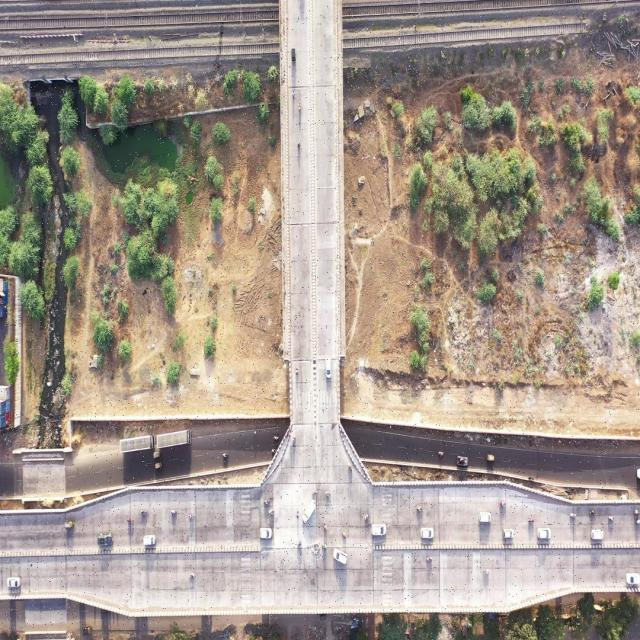3W: (63, 518, 75, 530), (318, 614, 327, 626), (486, 452, 495, 464), (290, 46, 296, 62), (83, 626, 92, 636), (154, 462, 164, 471), (153, 452, 162, 458)
Cars: (302, 499, 317, 524), (332, 548, 348, 566), (323, 356, 335, 379), (372, 522, 388, 536), (6, 576, 21, 590), (626, 572, 640, 586), (97, 534, 113, 546), (536, 527, 552, 539), (421, 526, 433, 541), (260, 526, 272, 540), (590, 529, 603, 541), (143, 535, 156, 546), (480, 513, 492, 524), (503, 528, 514, 539)
LCV: (455, 456, 471, 468)
M2W: (297, 537, 303, 550), (322, 541, 329, 552), (188, 572, 196, 581), (341, 528, 347, 540), (323, 518, 328, 532), (482, 567, 492, 574), (222, 451, 230, 459), (127, 518, 136, 525), (140, 509, 149, 516), (263, 497, 270, 506), (324, 489, 331, 498), (364, 513, 371, 522), (347, 463, 353, 473), (298, 99, 302, 114), (588, 510, 598, 516), (268, 508, 275, 516), (312, 489, 319, 497), (426, 555, 432, 564), (295, 364, 299, 377), (290, 86, 294, 99), (416, 505, 423, 512), (499, 500, 506, 507), (292, 433, 296, 445), (297, 137, 301, 149), (527, 518, 535, 524), (188, 514, 197, 519), (170, 508, 177, 514), (296, 506, 299, 520), (570, 512, 576, 519), (607, 515, 615, 520), (273, 436, 279, 441), (438, 451, 444, 456)
MAV: (156, 432, 191, 446), (119, 436, 155, 449)
